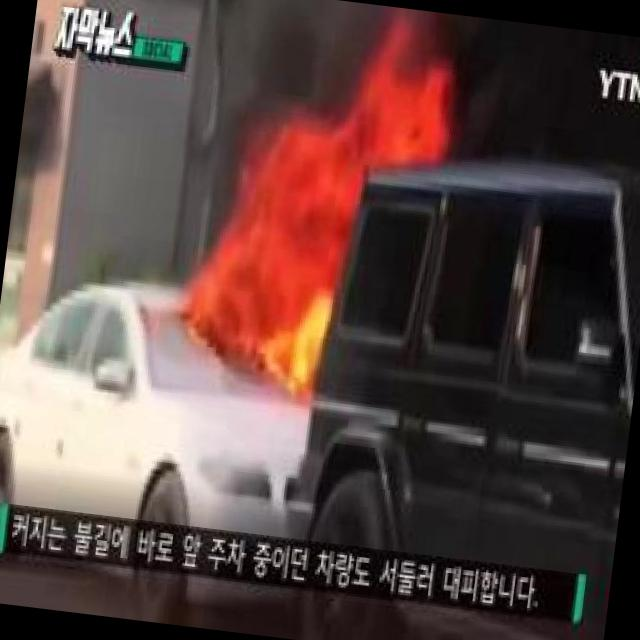Fire: (155, 0, 478, 409)
